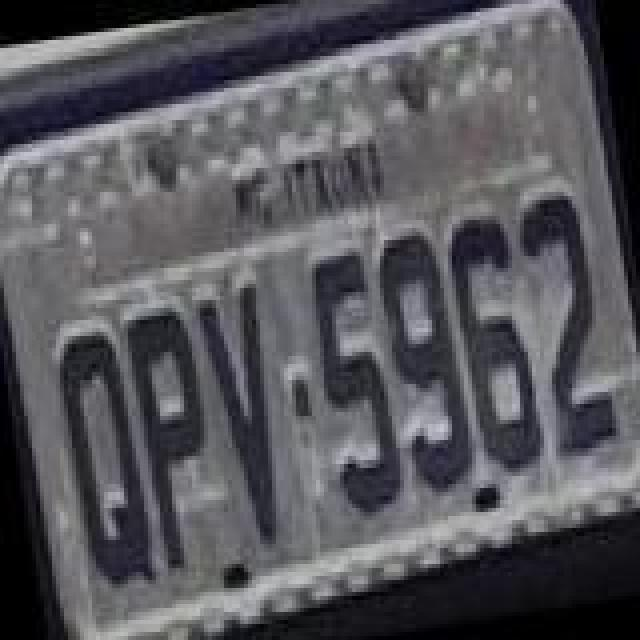2: (512, 188, 624, 460)
5: (302, 246, 410, 522)
6: (440, 206, 552, 482)
9: (368, 228, 480, 500)
P: (122, 308, 230, 572)
Q: (48, 328, 160, 600)
V: (192, 278, 296, 554)
